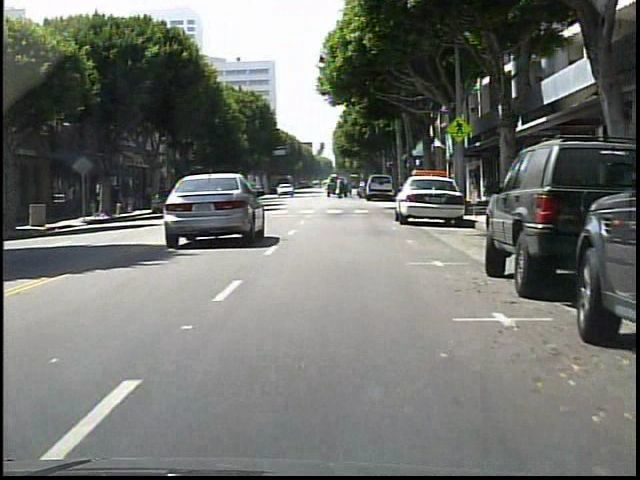person: (67, 182, 78, 216), (108, 188, 120, 218), (105, 186, 115, 215), (339, 176, 340, 198)
